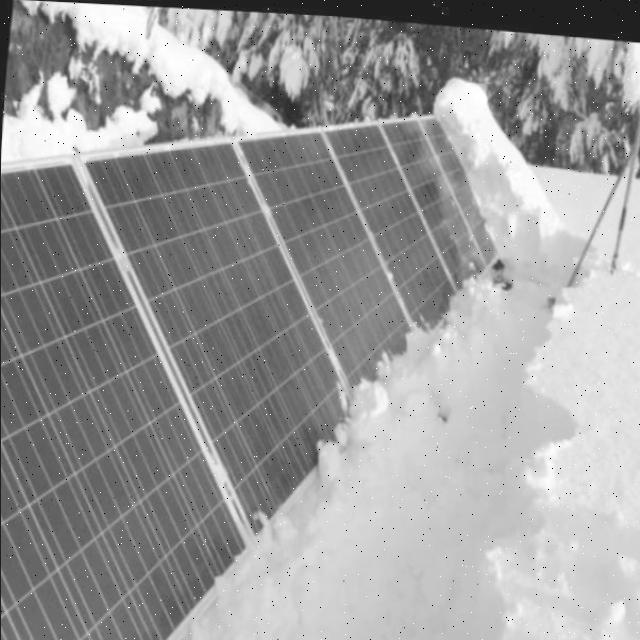Anomaly Solar Panel: (0, 156, 268, 640), (81, 133, 369, 561), (238, 125, 435, 434), (322, 117, 469, 350), (380, 114, 492, 301), (419, 111, 511, 275)
Snow: (178, 159, 640, 640), (428, 74, 570, 268)
